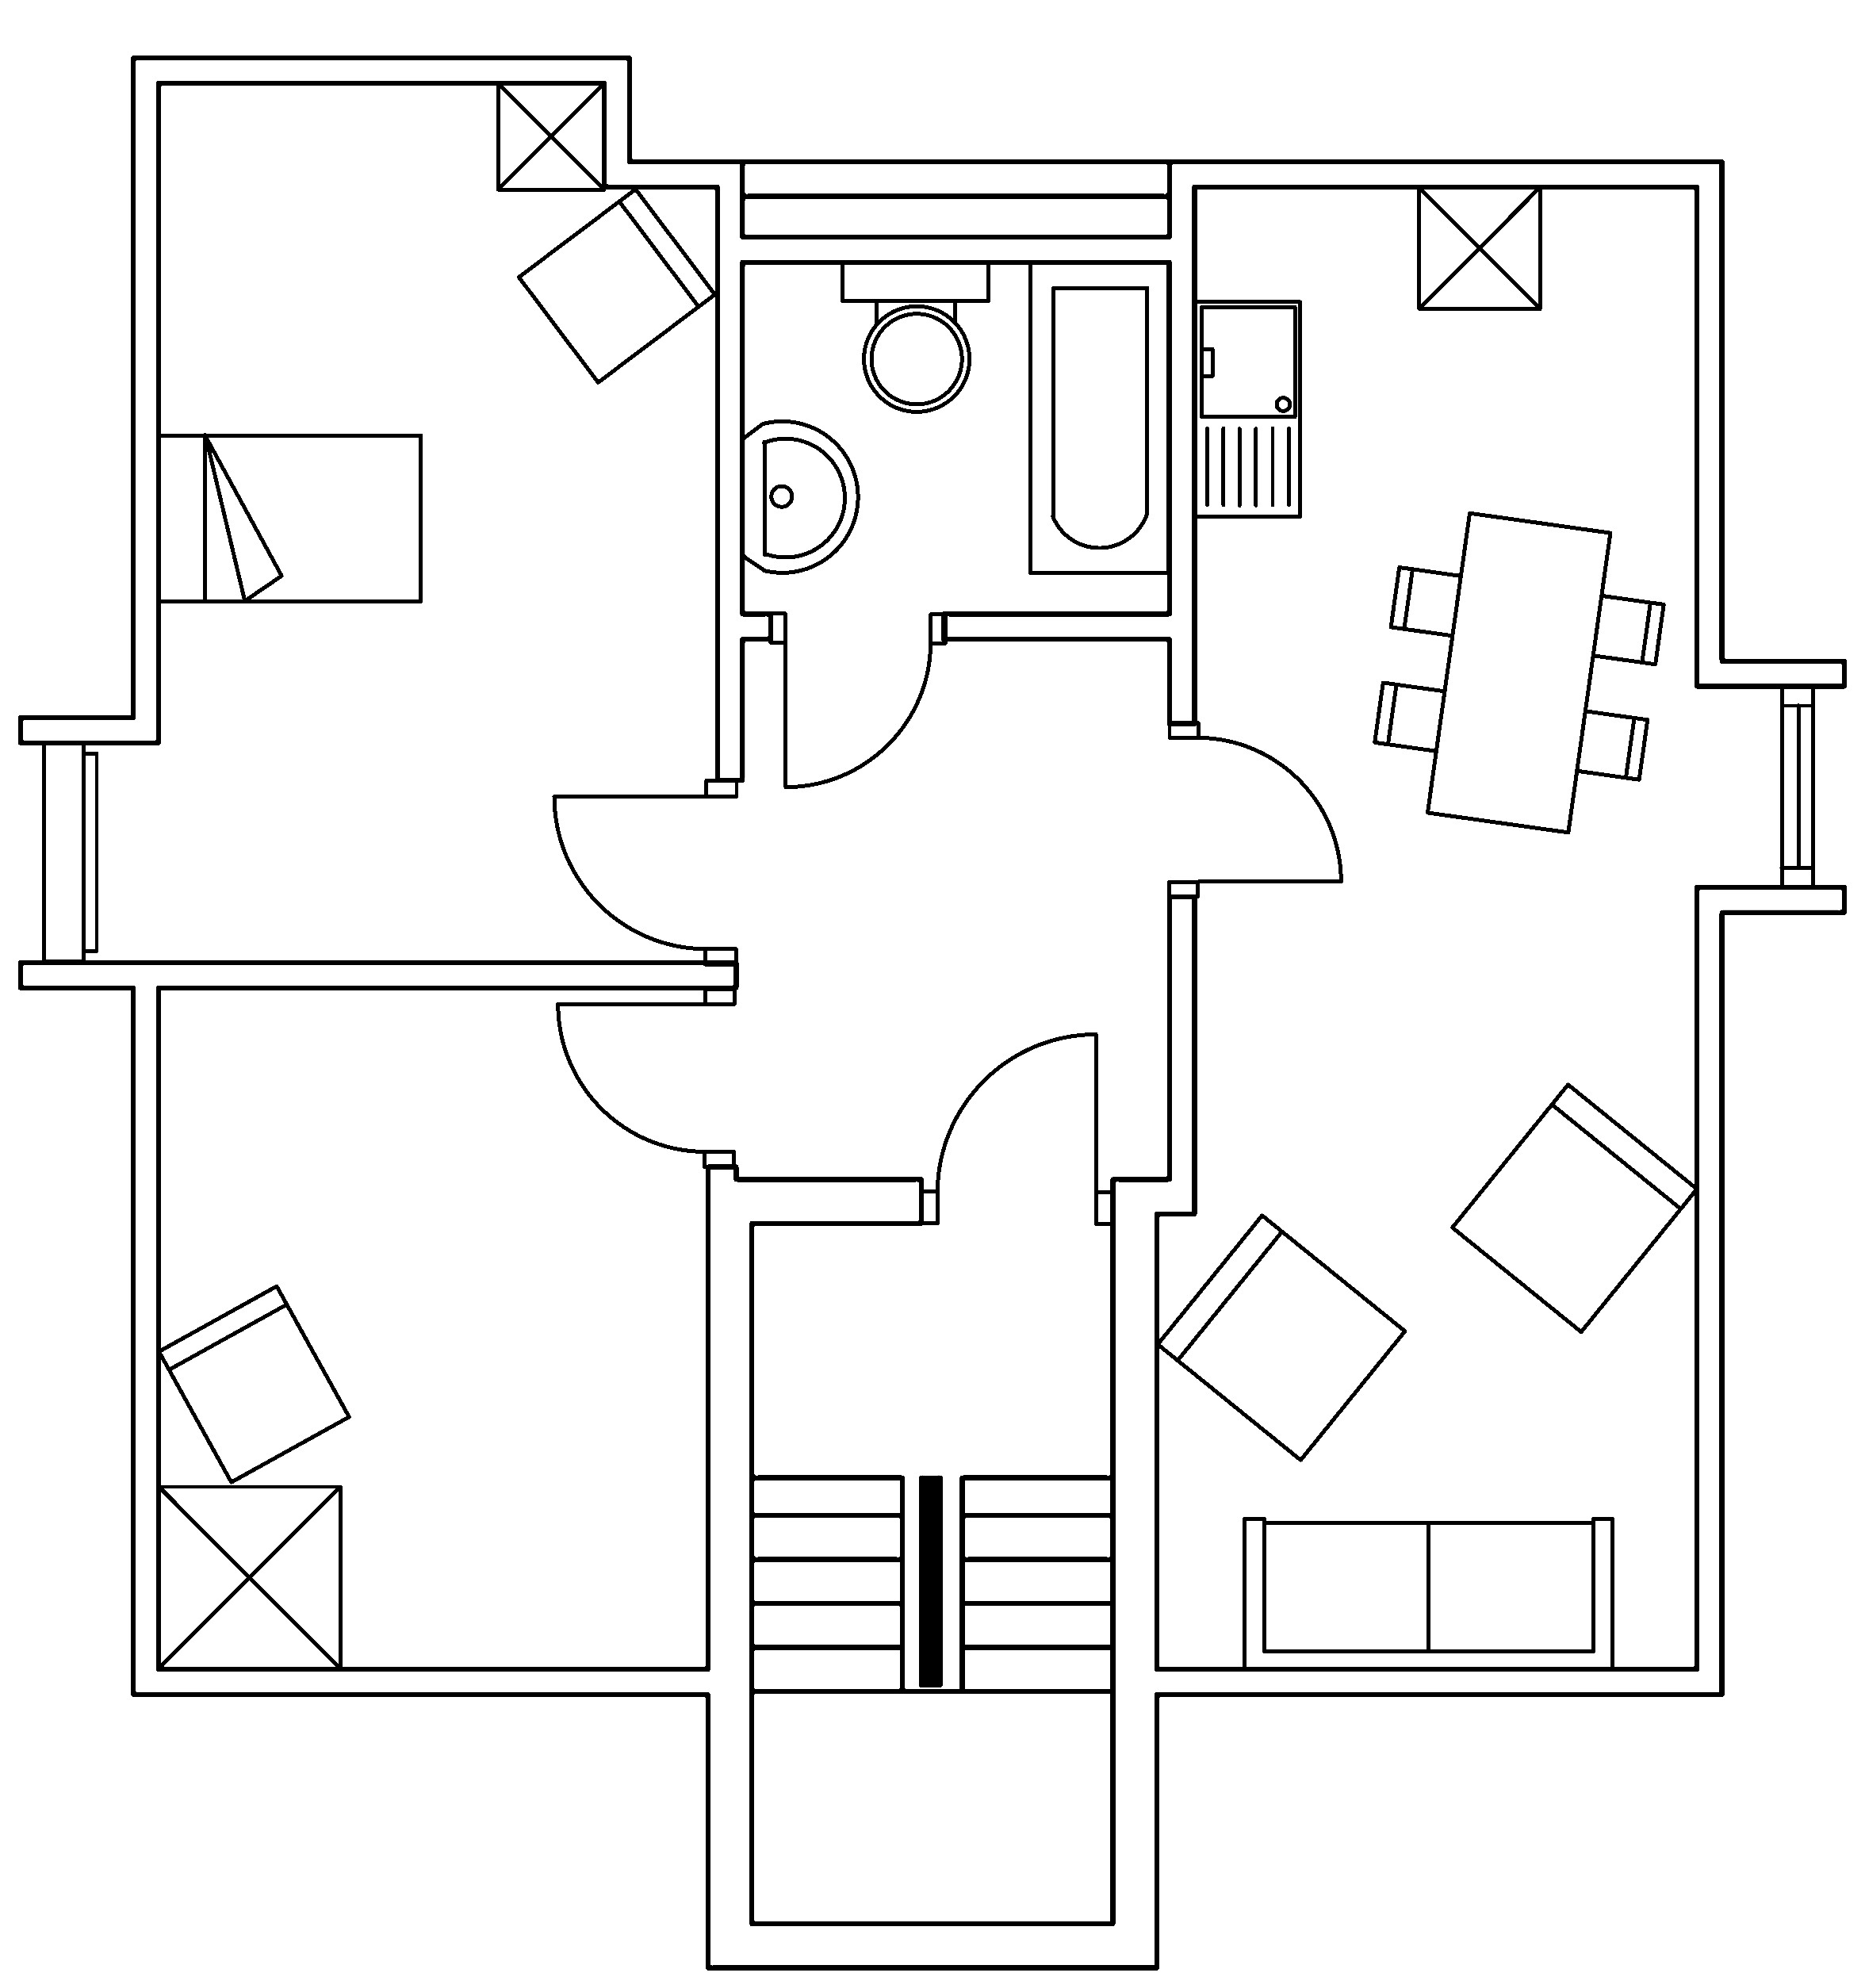bed: (154, 431, 424, 605)
coffee_table: (154, 1481, 342, 1671), (1416, 182, 1542, 310), (494, 79, 606, 191)
dining_table: (1371, 508, 1665, 834)
large_sink: (840, 258, 990, 412)
large_sofa: (1241, 1515, 1616, 1672)
sink: (1192, 298, 1302, 519)
small_sink: (740, 419, 859, 573)
small_sofa: (1153, 1211, 1408, 1462), (1448, 1082, 1698, 1334), (515, 186, 717, 384), (156, 1282, 351, 1485)
tub: (1027, 258, 1171, 575)
